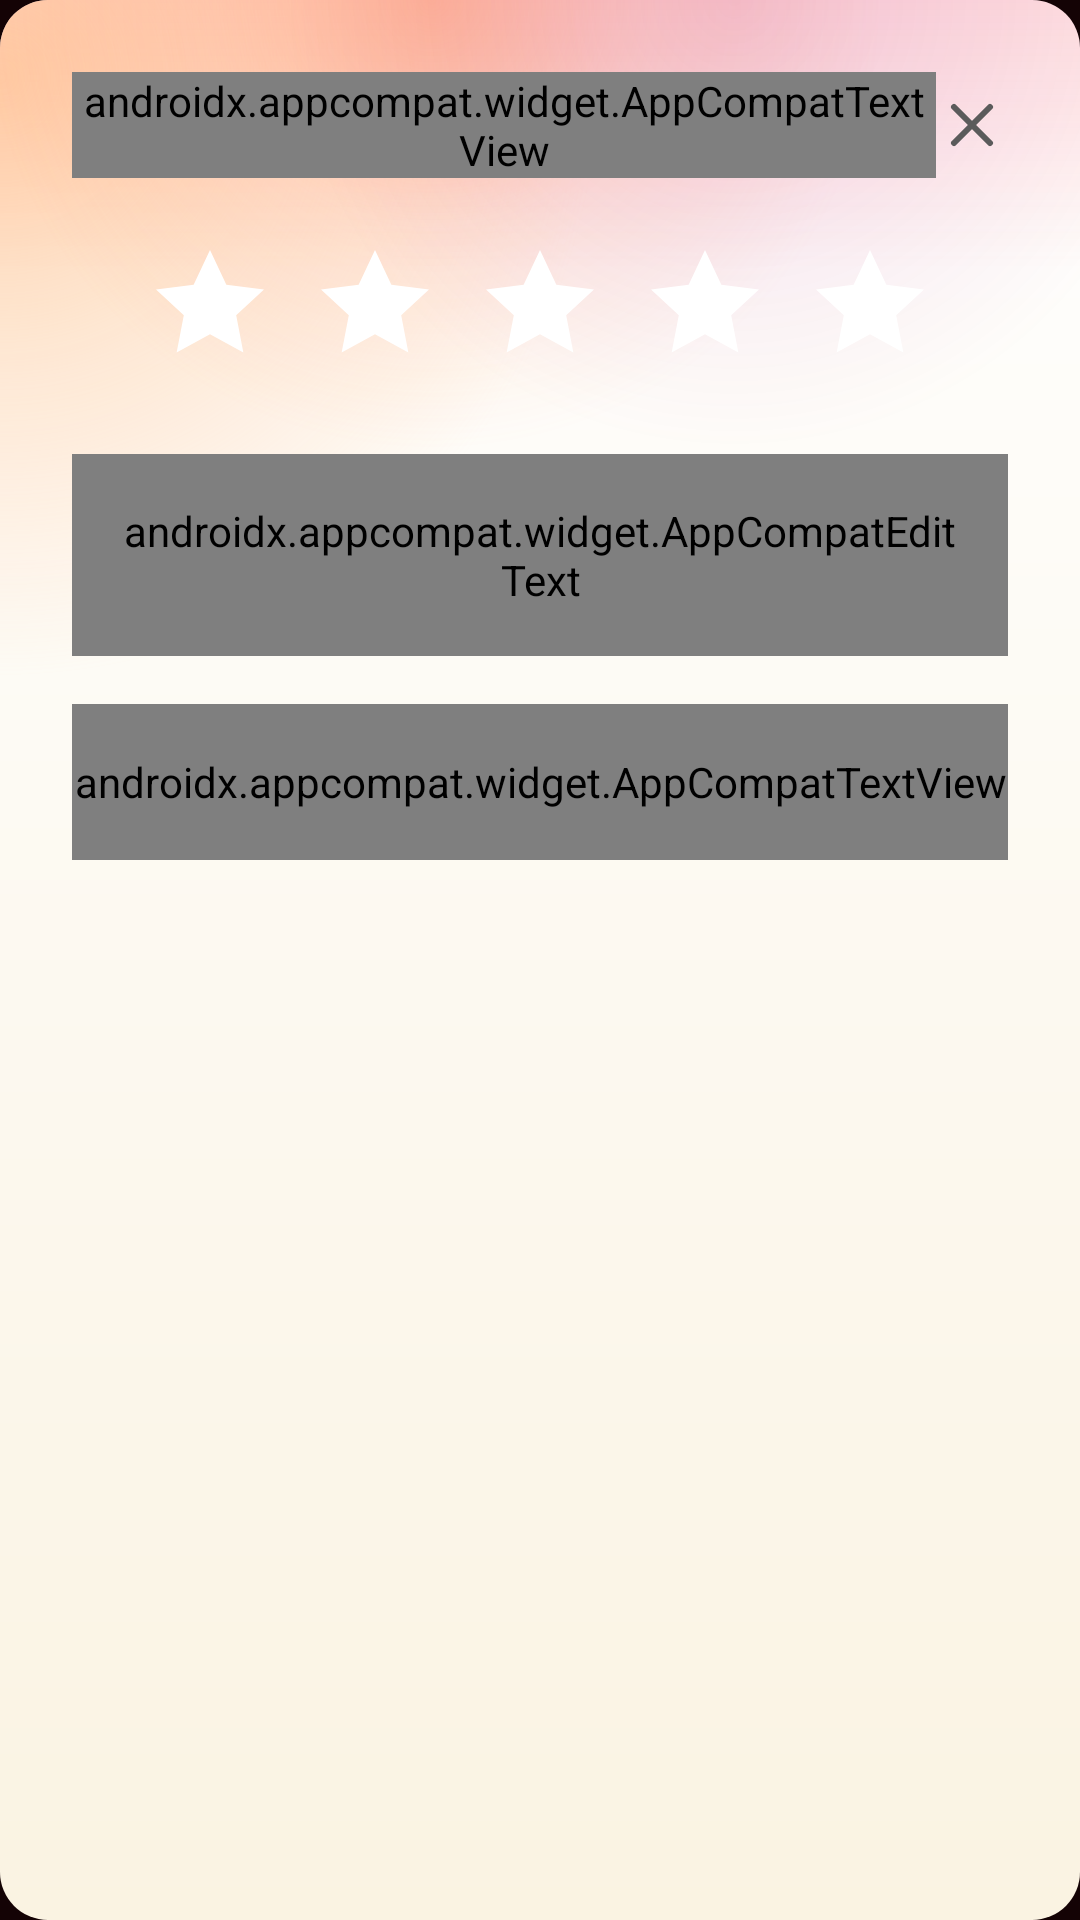

Icon click points for this 1080x1920 phone screenshot, format [x,y]:
rating star: [210,299], [375,302]
Đóng: [972,125]
